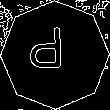P_S: (36, 29, 74, 81)
